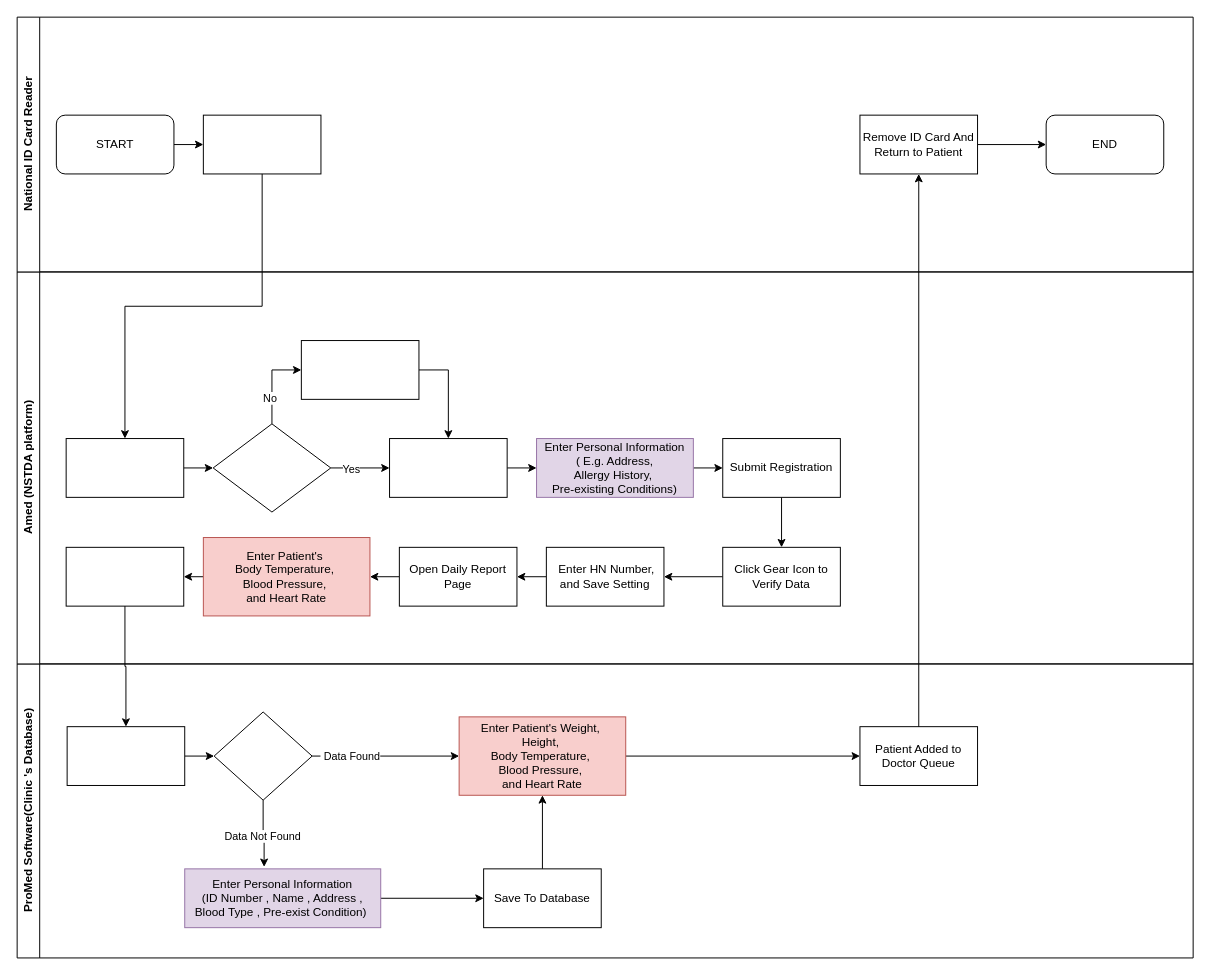
The diagram is 1210 pixels wide and 975 high, and some of its shapes have lost their labels. Here are the shapes that lost their labels. From the top down, the centre of each, then its label:
At point (261, 144): "Insert ID Card Into Card Reader".
At point (359, 369): "Press Bottom Left Button to Retry ID Card Reading".
At point (124, 467): "Open Register Manu".
At point (271, 467): "Is Data From ID Card Display".
At point (448, 467): "Click Verify Medical Eligibility Button".
At point (124, 576): "Submit Report".
At point (125, 755): "Open Registration Manu".
At point (262, 755): "Enter Patient Name".
